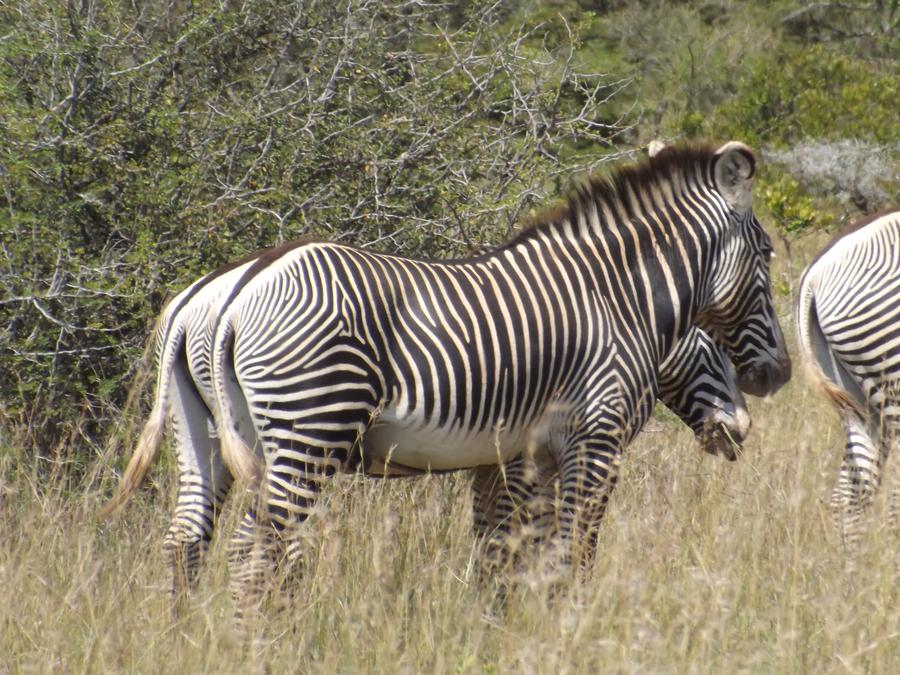zebra_grevys: (234, 228, 637, 457)
